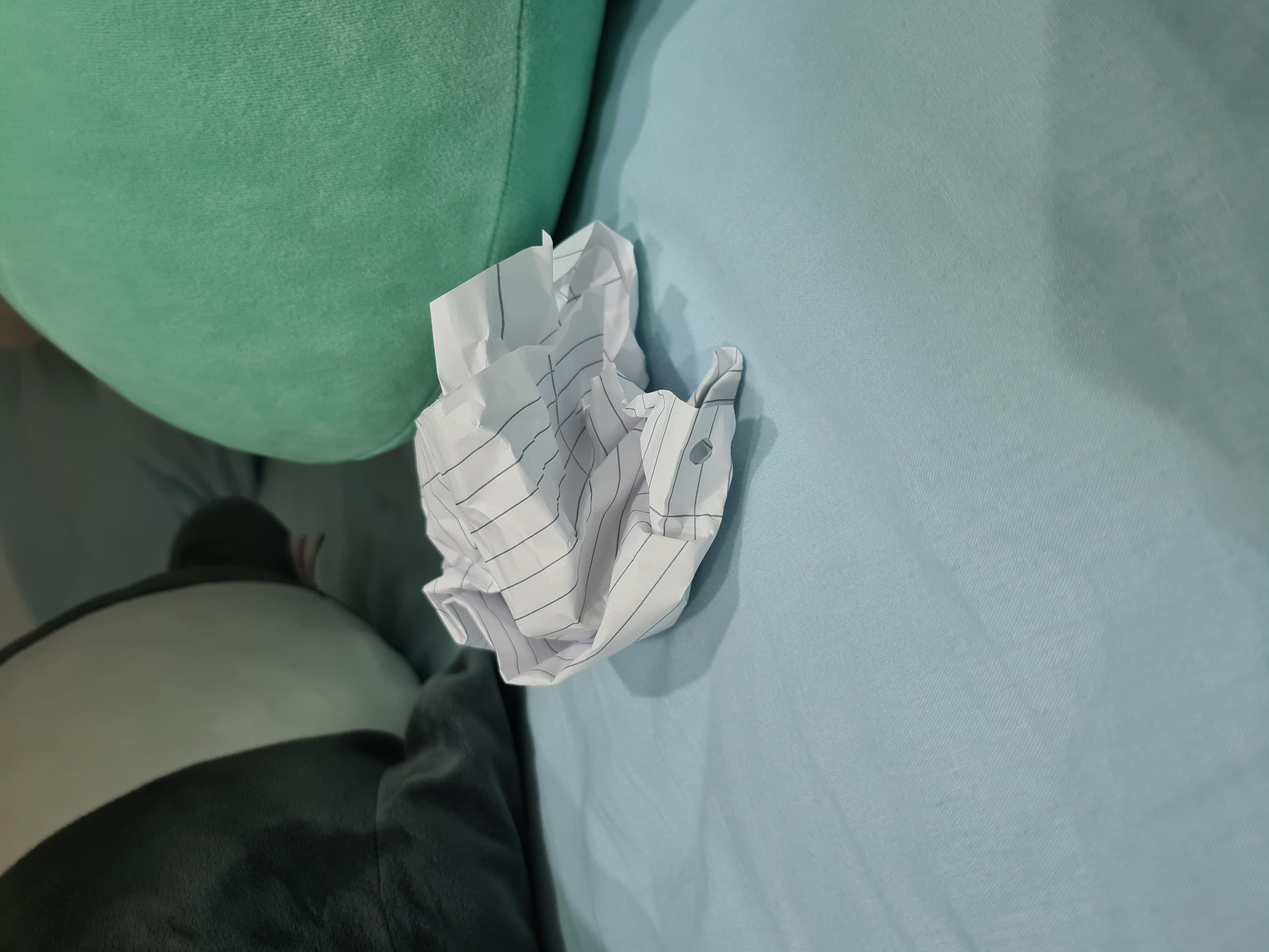paper: (337, 296, 963, 563)
